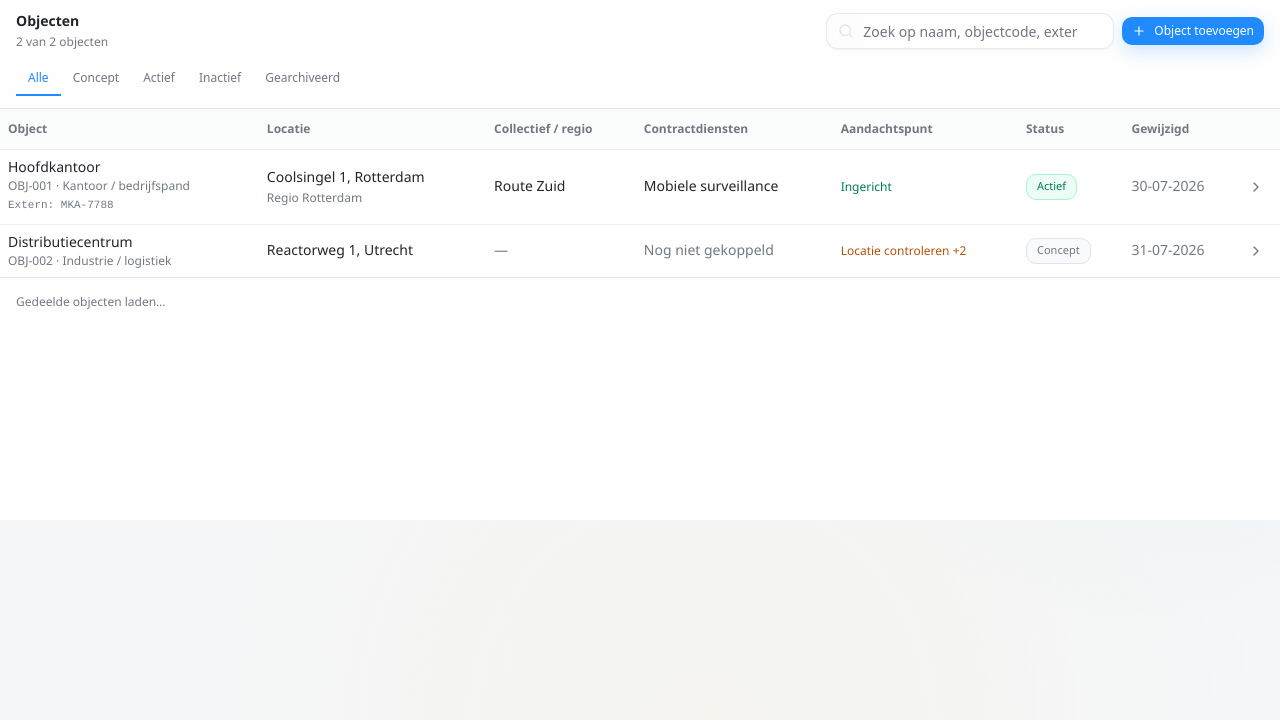
Test: ObjectsTab › vindt een object ook op de niet-unieke externe objectcode
Type "mka-7788" into the field named "Objecten zoeken" at (970, 31), box [826,13,1114,49]
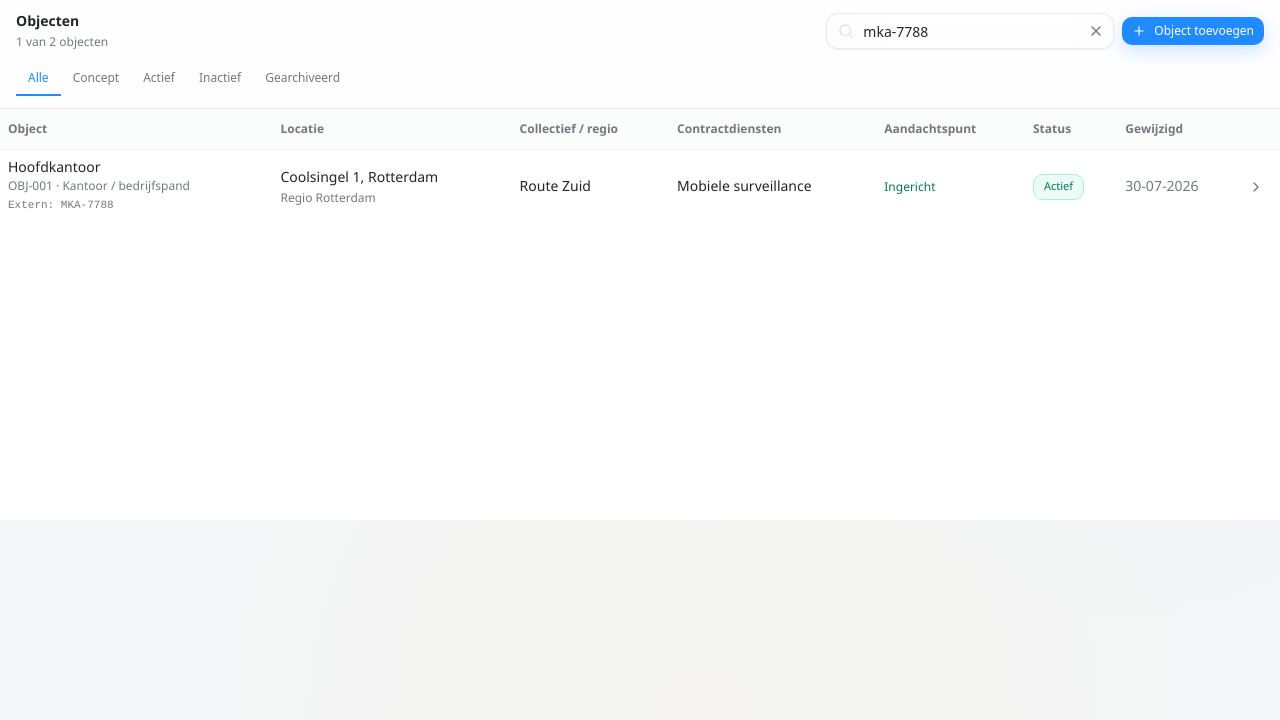
Expected: the text "Hoofdkantoor" is shown, [8,158,100,176]
Expected: the text "Distributiecentrum" is gone
